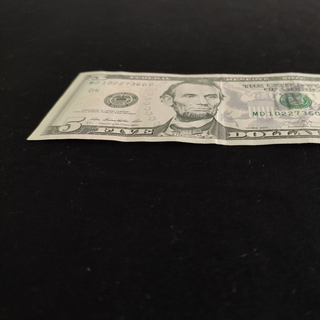5USDFront: (27, 69, 320, 149)
